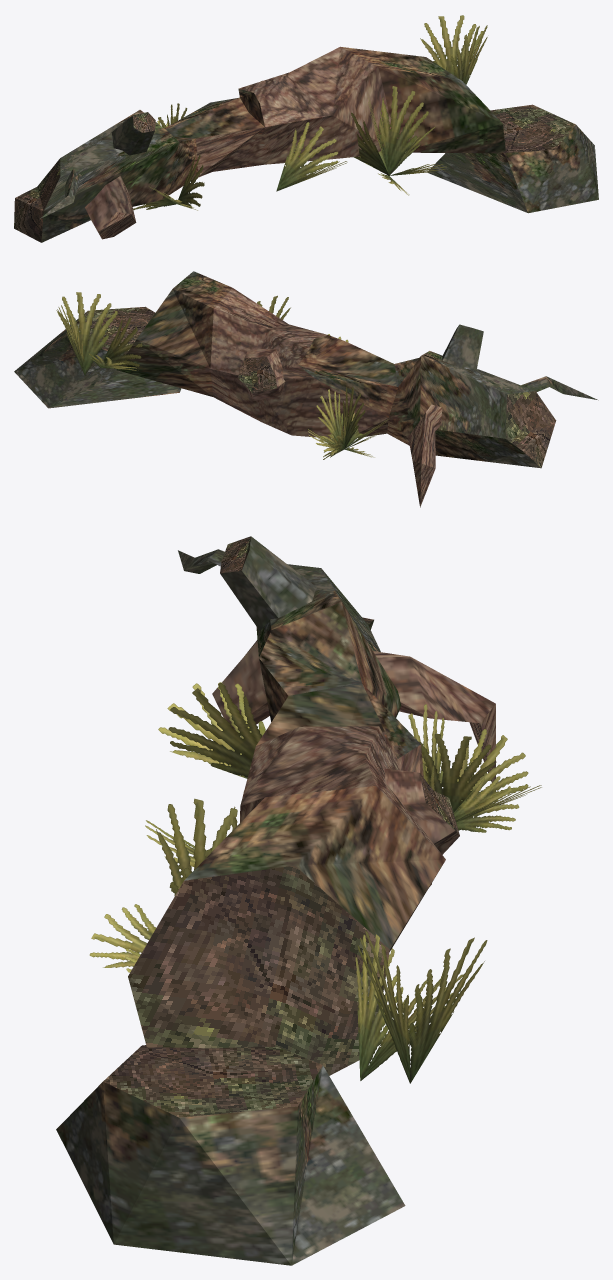
Rendered from c1sndeadtree_dm.obj.
The picture shows the model from 3 angles, top to bottom: view 1: azimuth 30°, elevation 25°; view 2: azimuth 150°, elevation 25°; view 3: azimuth 270°, elevation 25°; orthographic projection. The views are drawn at different scales.
Parts seen in each view (by area): view 1: Node 0; view 2: Node 0; view 3: Node 0.
Part boxes in pixels (<box>): Node 0: <box>14,15,598,242</box>; Node 0: <box>14,271,598,507</box>; Node 0: <box>56,536,541,1265</box>.
Size of the model in its own units: 8.24 by 2.19 by 3.21.
Materials: 4 (4 with a texture image).
